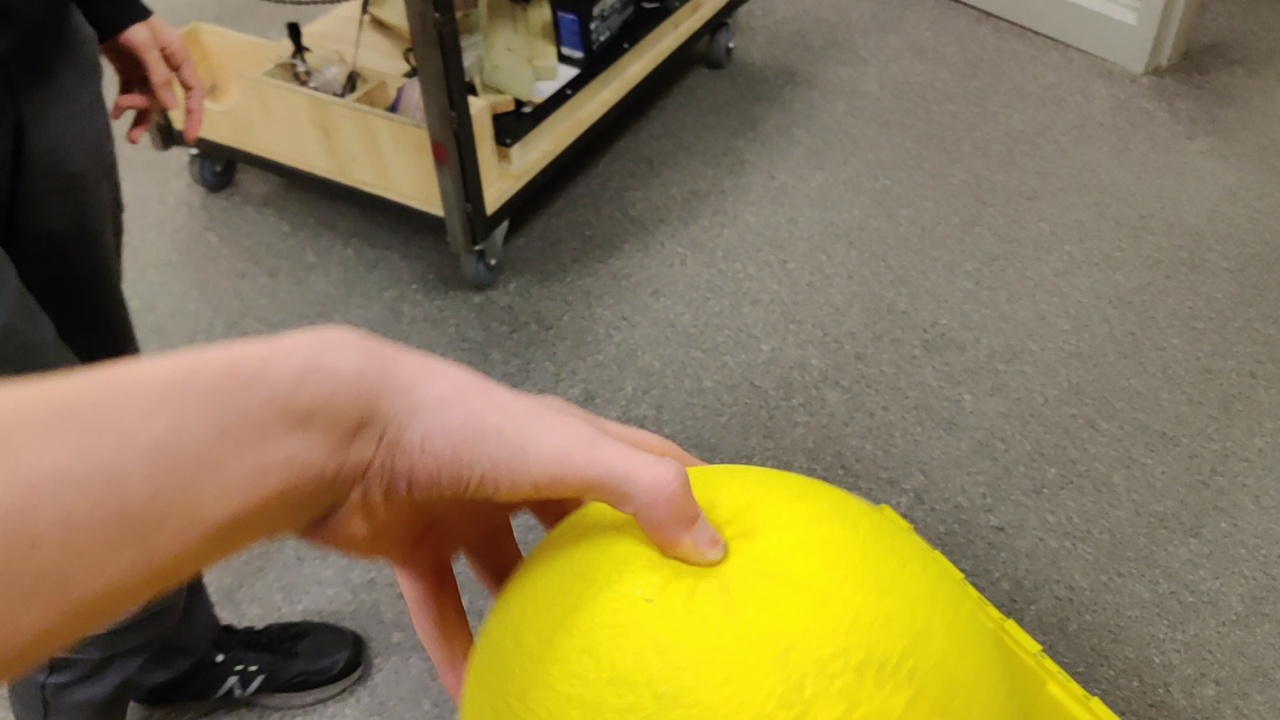Ball: (453, 464, 1019, 720)
